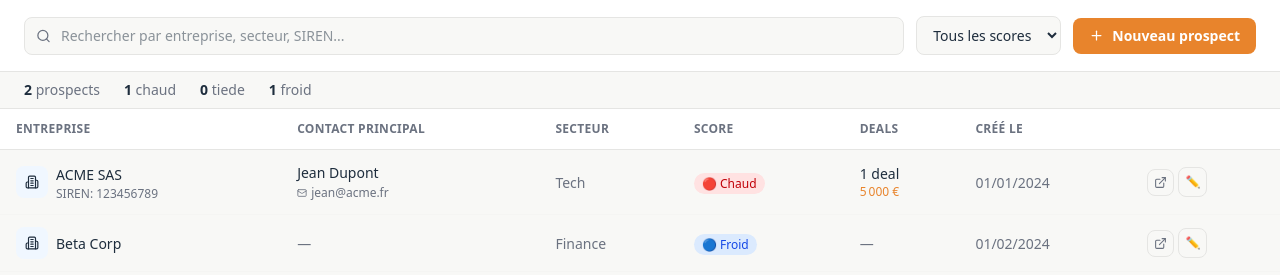
ProspectsClient › filters by sector
Type "Finance" into the field with placeholder "Rechercher par entreprise, secteur, SIREN..." at (464, 36), box top-left (24, 16), bottom-right (904, 54)
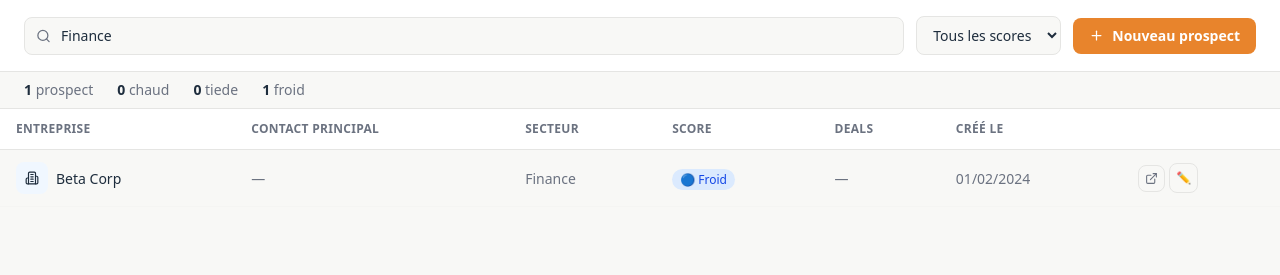
Expected: the link "Beta Corp" is shown, top-left (56, 169), bottom-right (121, 188)
Now the link "ACME SAS" is gone
